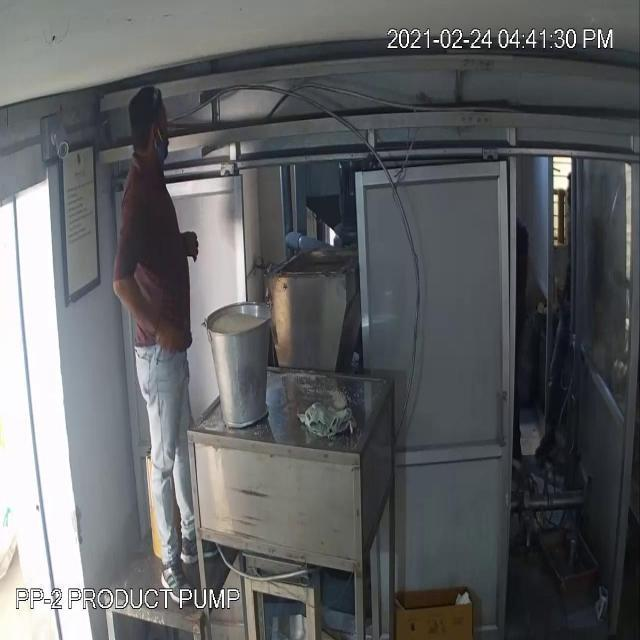no hat: (128, 90, 174, 148)
